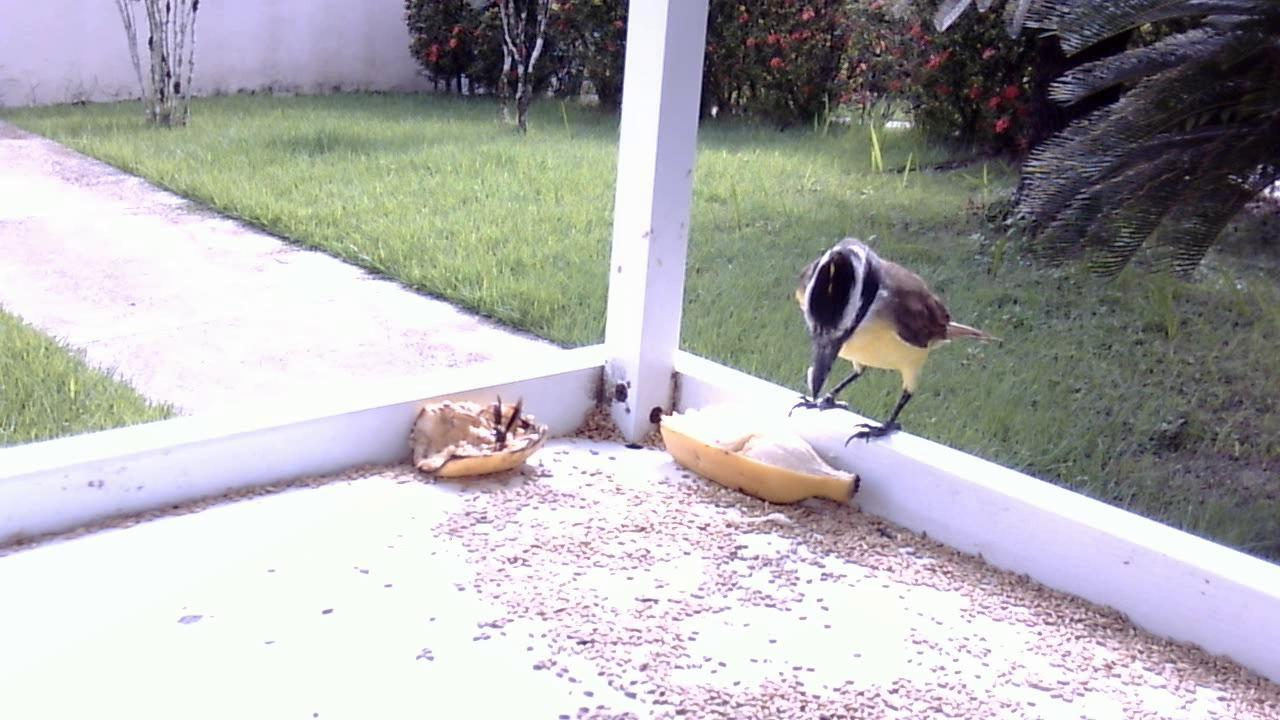bem_te_vi: (781, 227, 1004, 470)
